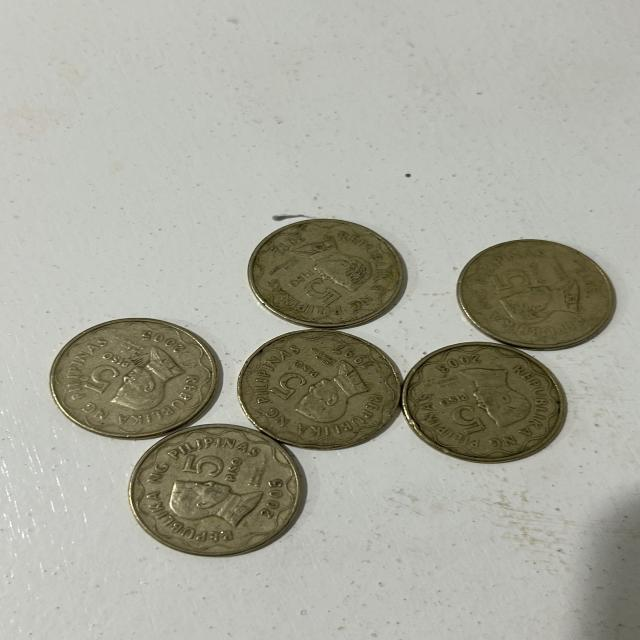5_Old_Front: (426, 392, 497, 446), (174, 447, 252, 492), (284, 269, 350, 320), (266, 352, 322, 408), (79, 349, 134, 400), (498, 259, 560, 299)
